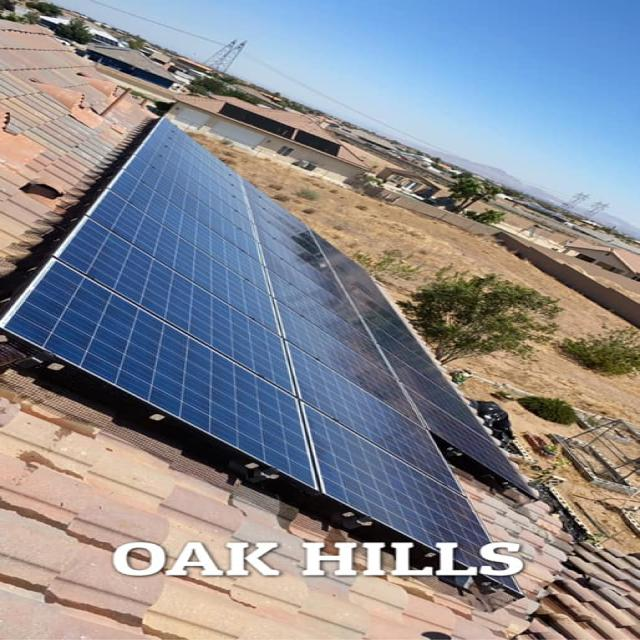clean-solar-panel: (5, 120, 528, 558)
